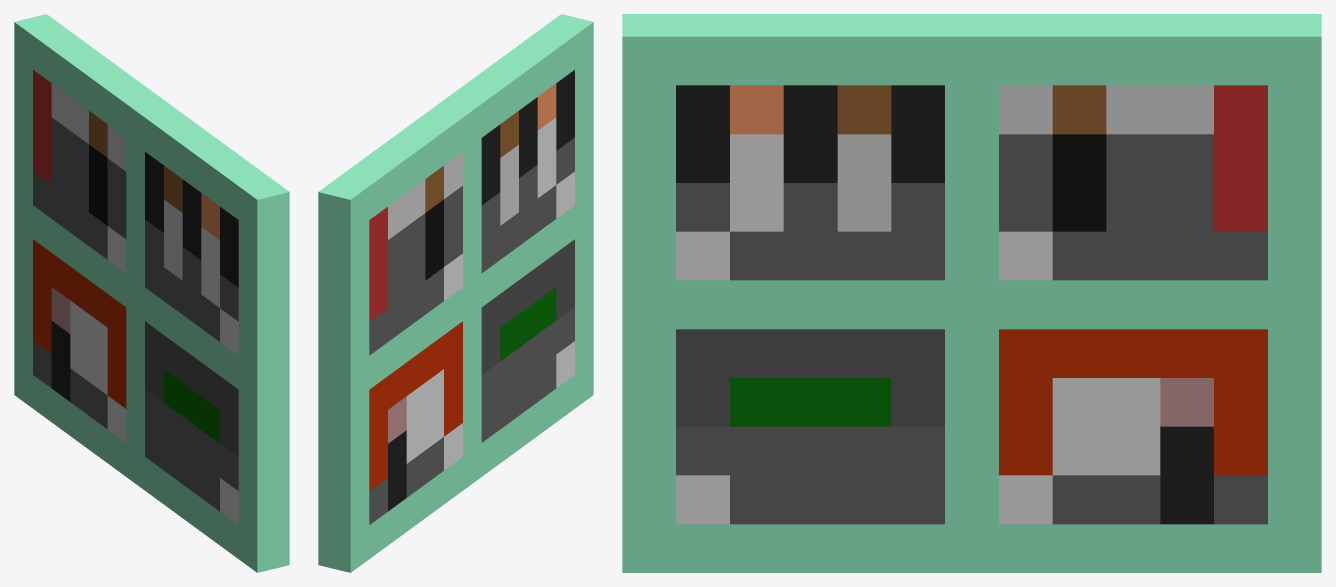
File: Security Moniter.obj
3 renders of one model, left to right at view 1: azimuth 30°, elevation 25°; view 2: azimuth 150°, elevation 25°; view 3: azimuth 270°, elevation 25°, orthographic. The views are drawn at different scales.
Bounding box in the file's own units: 1 × 11 × 13.
1 material, 1 textured.
